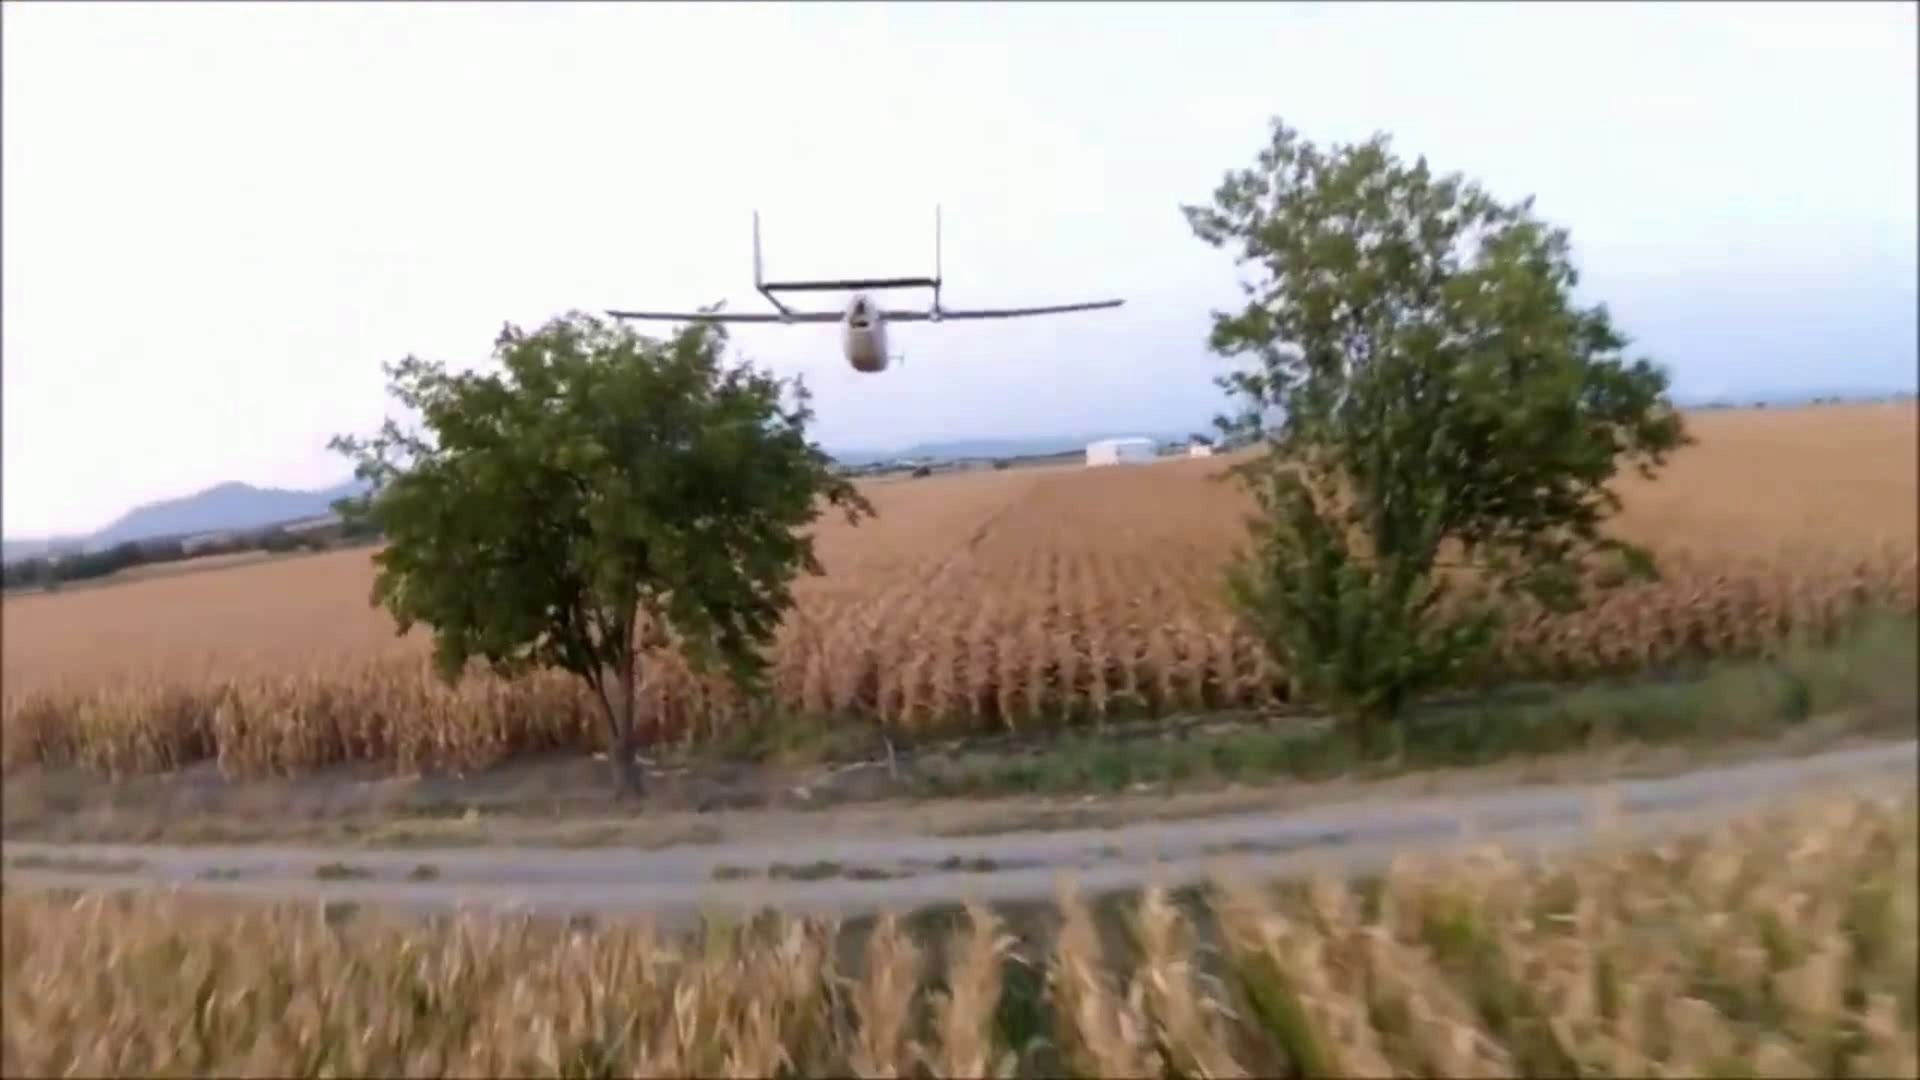airplane: (605, 202, 1127, 375)
